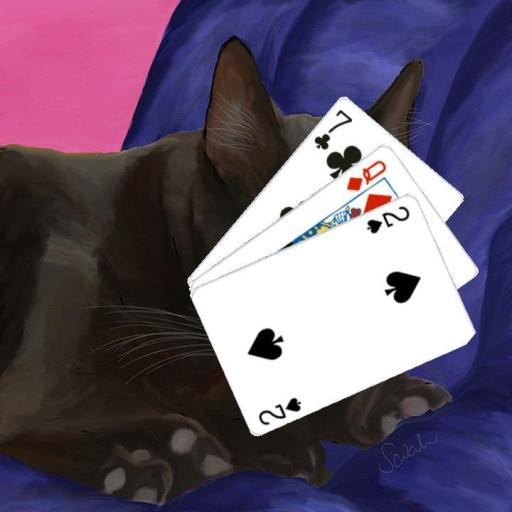2S: (255, 393, 303, 427), (363, 202, 412, 235)
7C: (310, 106, 354, 152)
QD: (343, 156, 388, 193)
